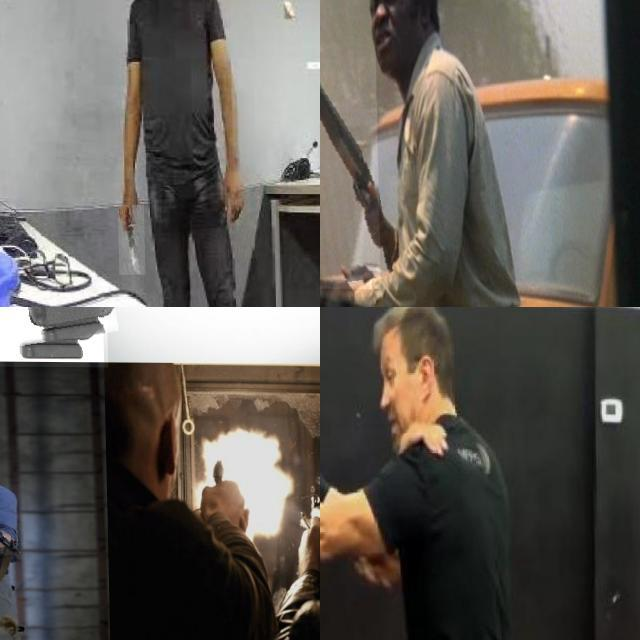-: (116, 205, 143, 275)
gun-knife-thesis - v11 Yolov5 augmented: (0, 307, 164, 470), (320, 0, 394, 288), (105, 307, 320, 389), (150, 307, 320, 390), (291, 486, 320, 609), (0, 483, 44, 557), (204, 448, 223, 512)
